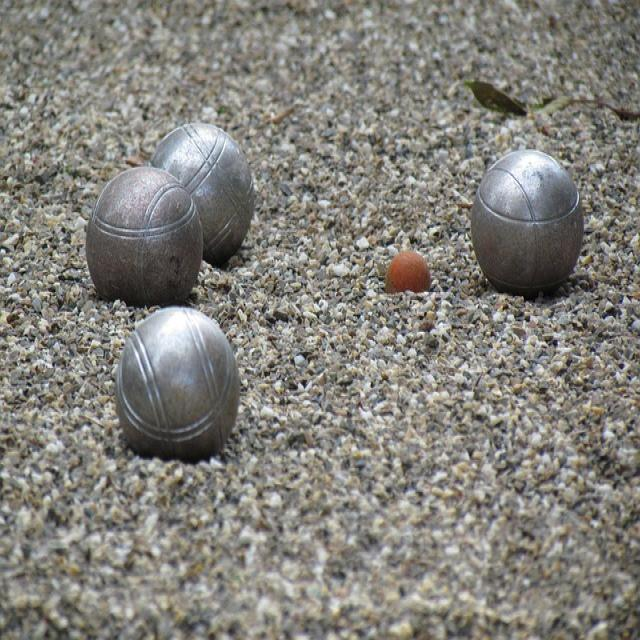hatball: (372, 242, 441, 307)
petanque: (108, 303, 251, 477), (462, 145, 594, 309), (78, 159, 216, 315), (136, 118, 265, 282)
